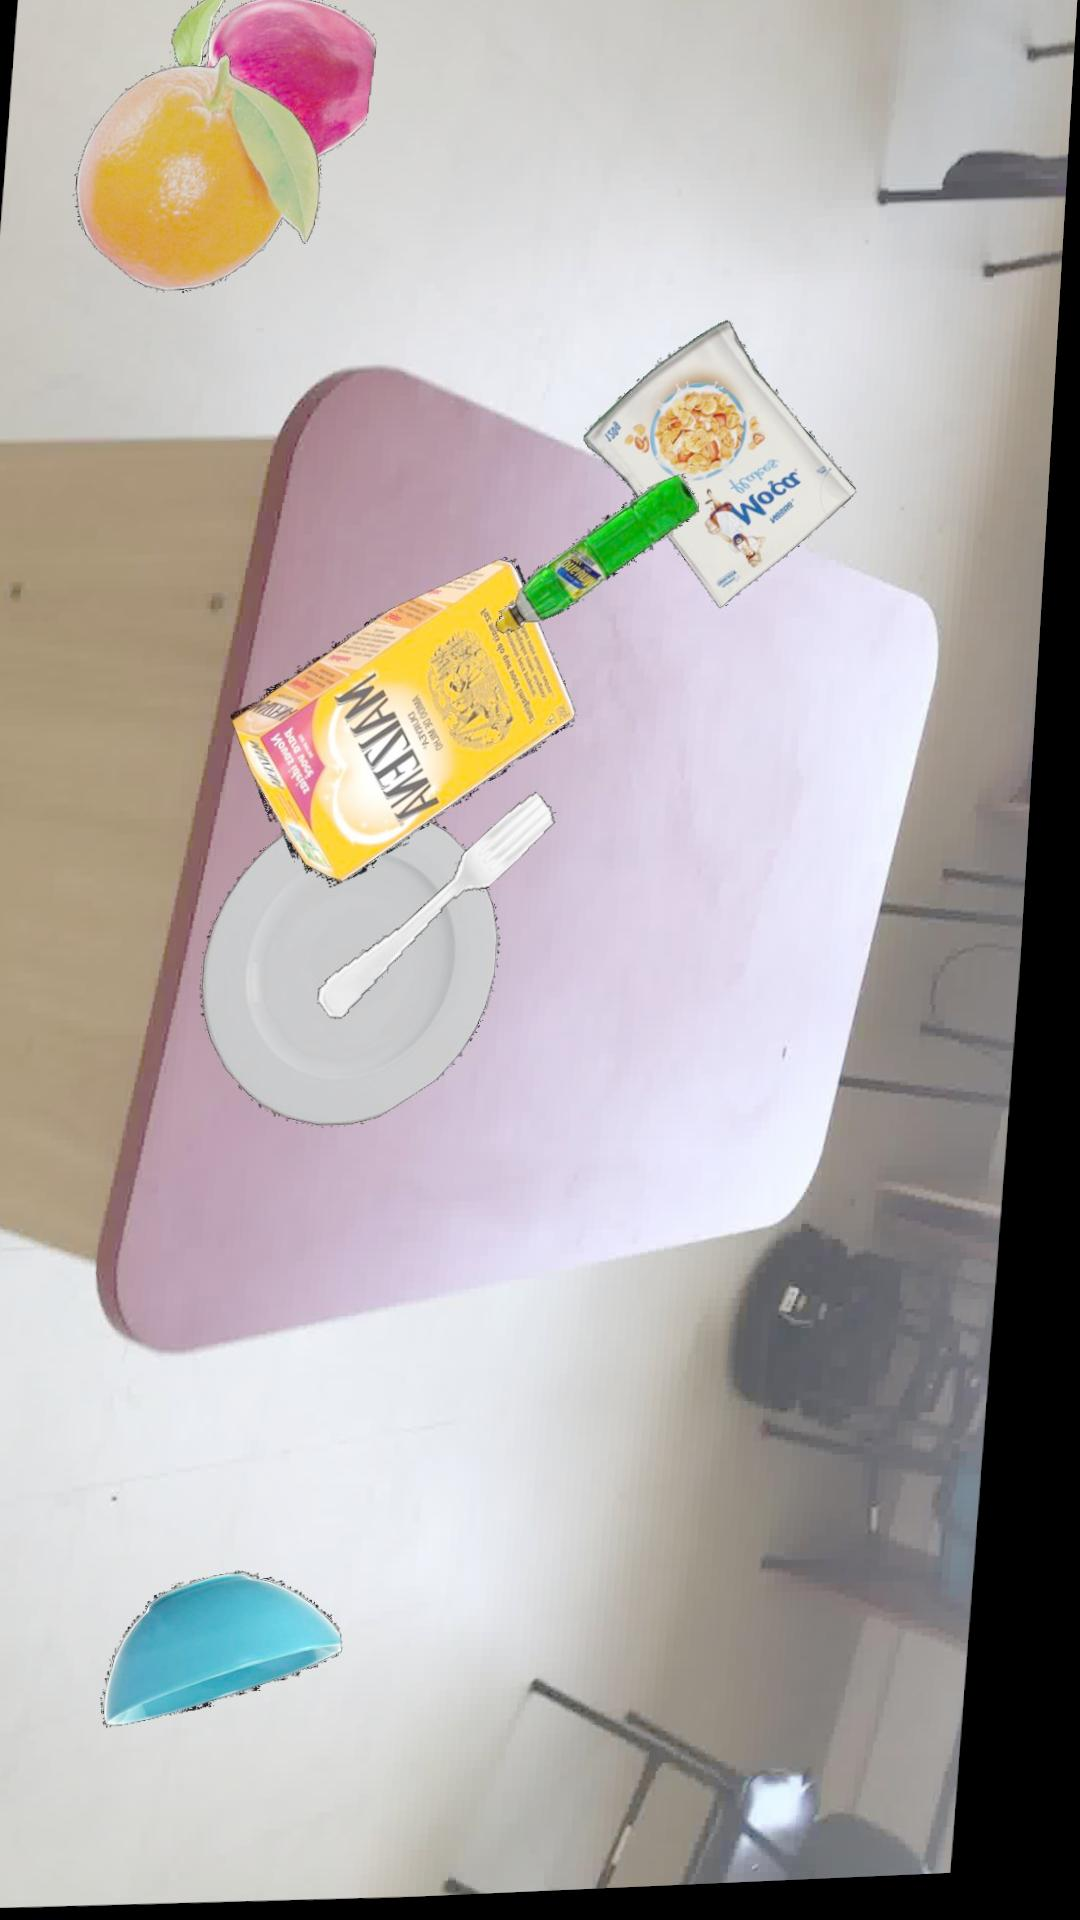apple: (169, 0, 375, 158)
bowl: (120, 1572, 361, 1726)
cleaner: (501, 479, 704, 637)
corn flakes: (587, 324, 860, 613)
fork: (327, 795, 563, 1021)
orange: (75, 53, 320, 290)
plate: (210, 824, 508, 1126)
